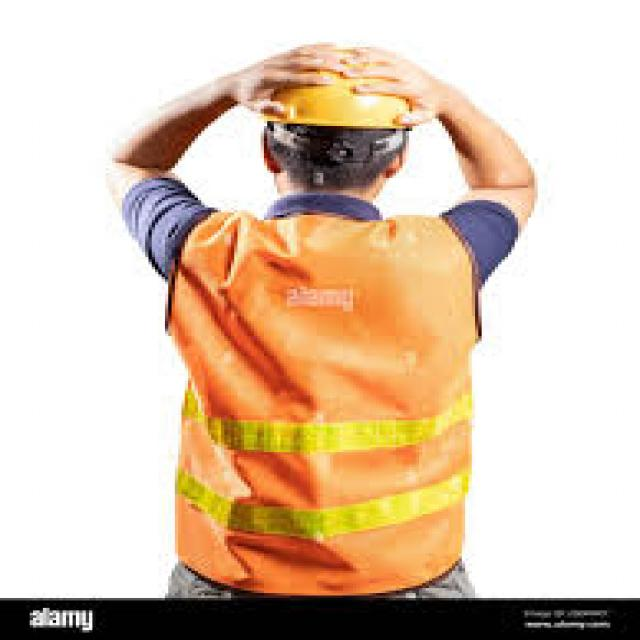Reflective-Jacket: (155, 195, 485, 603)
Safety-Helmet: (244, 34, 436, 138)
